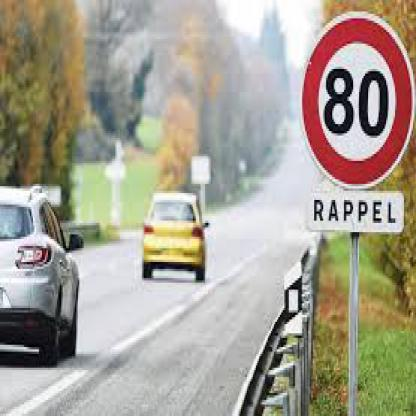Speed Limit 80: (300, 15, 414, 186)
